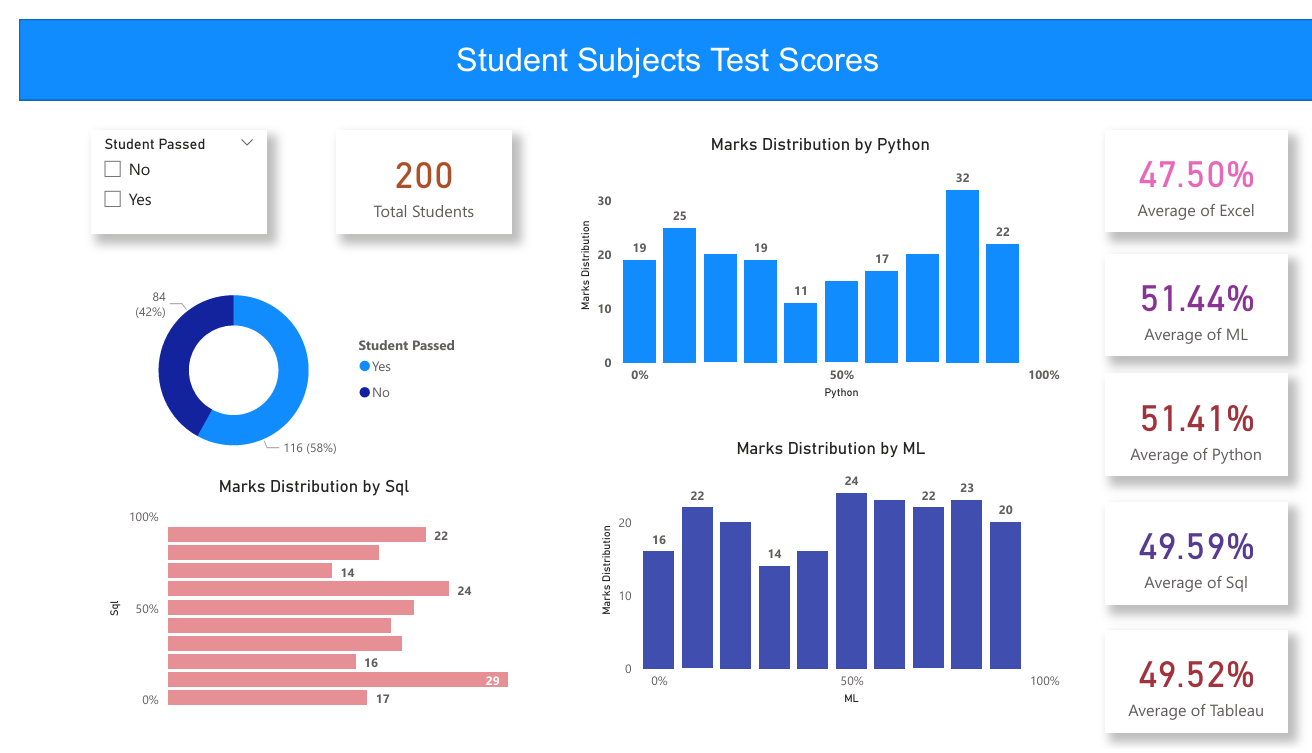

The page's visual inventory and layout, read from the dashboard file:
{"tool":"powerbi","page":{"name":"Page 1","canvas":[1280,720],"ordinal":0},"visuals":[{"type":"card","fields":{"Values":["Avg(scores.Excel)"]},"box":[1072,113.1,179.8,99.4],"z":1000},{"type":"card","fields":{"Values":["Avg(scores.ML)"]},"box":[1072,231.6,179.8,100.8],"z":1002},{"type":"card","fields":{"Values":["Avg(scores.Python)"]},"box":[1072,350.1,179.8,100.8],"z":1003},{"type":"card","fields":{"Values":["Avg(scores.Sql)"]},"box":[1072,476.8,179.8,100.8],"z":1004},{"type":"card","fields":{"Values":["Avg(scores.Tableau)"]},"box":[1072,603.4,179.8,100.8],"z":1005},{"type":"card","fields":{"Values":["CountNonNull(scores.Student Placed)"]},"box":[313.3,110.3,173,102.2],"z":1006},{"type":"slicer","fields":{"Values":["scores.Student Placed"]},"box":[70.8,110.3,173,102.2],"z":1007},{"type":"donutChart","fields":{"Category":["scores.Student Placed"],"Y":["CountNonNull(scores.Student Placed)"]},"box":[83.1,231.6,369.1,228.8],"z":1008},{"type":"clusteredColumnChart","fields":{"Category":["scores.Python (bins)"],"Y":["CountNonNull(scores.Student Placed)"]},"box":[547.6,113.1,486.3,265.6],"z":1009},{"type":"clusteredColumnChart","fields":{"Y":["CountNonNull(scores.Student Placed)"],"Category":["scores.ML (bins)"]},"box":[569.4,412.7,464.5,268.3],"z":1010},{"type":"shape","box":[0,0,1280.4,80.4],"z":1011},{"type":"barChart","fields":{"Category":["scores.Sql (bins)"],"Y":["CountNonNull(scores.Student Placed)"]},"box":[83.1,450.9,415.5,242.5],"z":1012}]}

Visuals, with their boxes in screenshot pixels (x1, y1, x2, y2), scaled from the page's 1280x720 canvas onto the 1312x753 screenshot:
card - Avg(scores.Excel): [1099,118,1283,222]
card - Avg(scores.ML): [1099,242,1283,348]
card - Avg(scores.Python): [1099,366,1283,472]
card - Avg(scores.Sql): [1099,499,1283,604]
card - Avg(scores.Tableau): [1099,631,1283,736]
card - CountNonNull(scores.Student Placed): [321,115,498,222]
slicer - scores.Student Placed: [73,115,250,222]
donutChart - scores.Student Placed x CountNonNull(scores.Student Placed): [85,242,464,482]
clusteredColumnChart - scores.Python (bins) x CountNonNull(scores.Student Placed): [561,118,1060,396]
clusteredColumnChart - CountNonNull(scores.Student Placed) x scores.ML (bins): [584,432,1060,712]
shape: [0,0,1311,84]
barChart - scores.Sql (bins) x CountNonNull(scores.Student Placed): [85,472,511,725]
